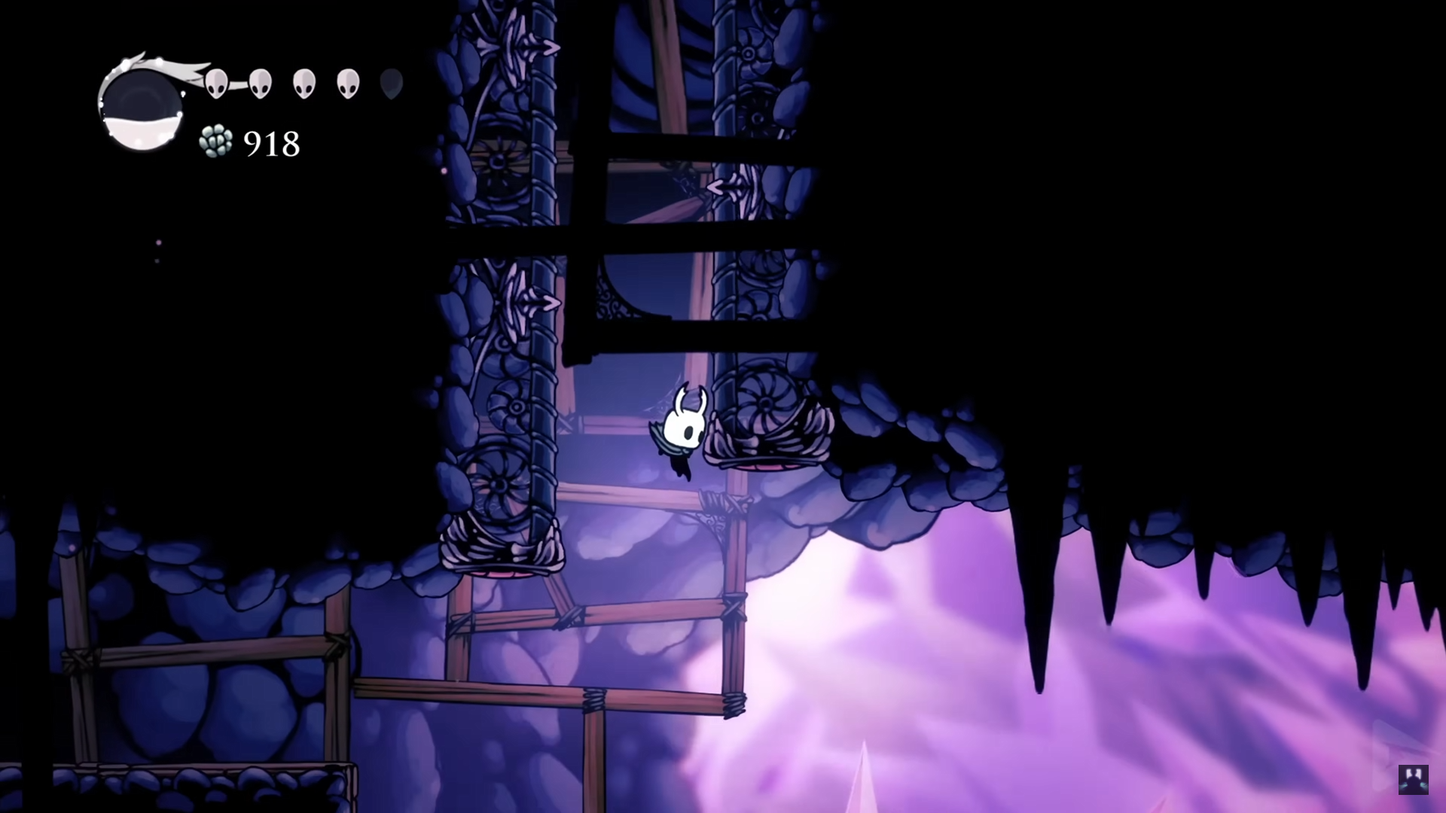HK: (652, 381, 713, 480)
